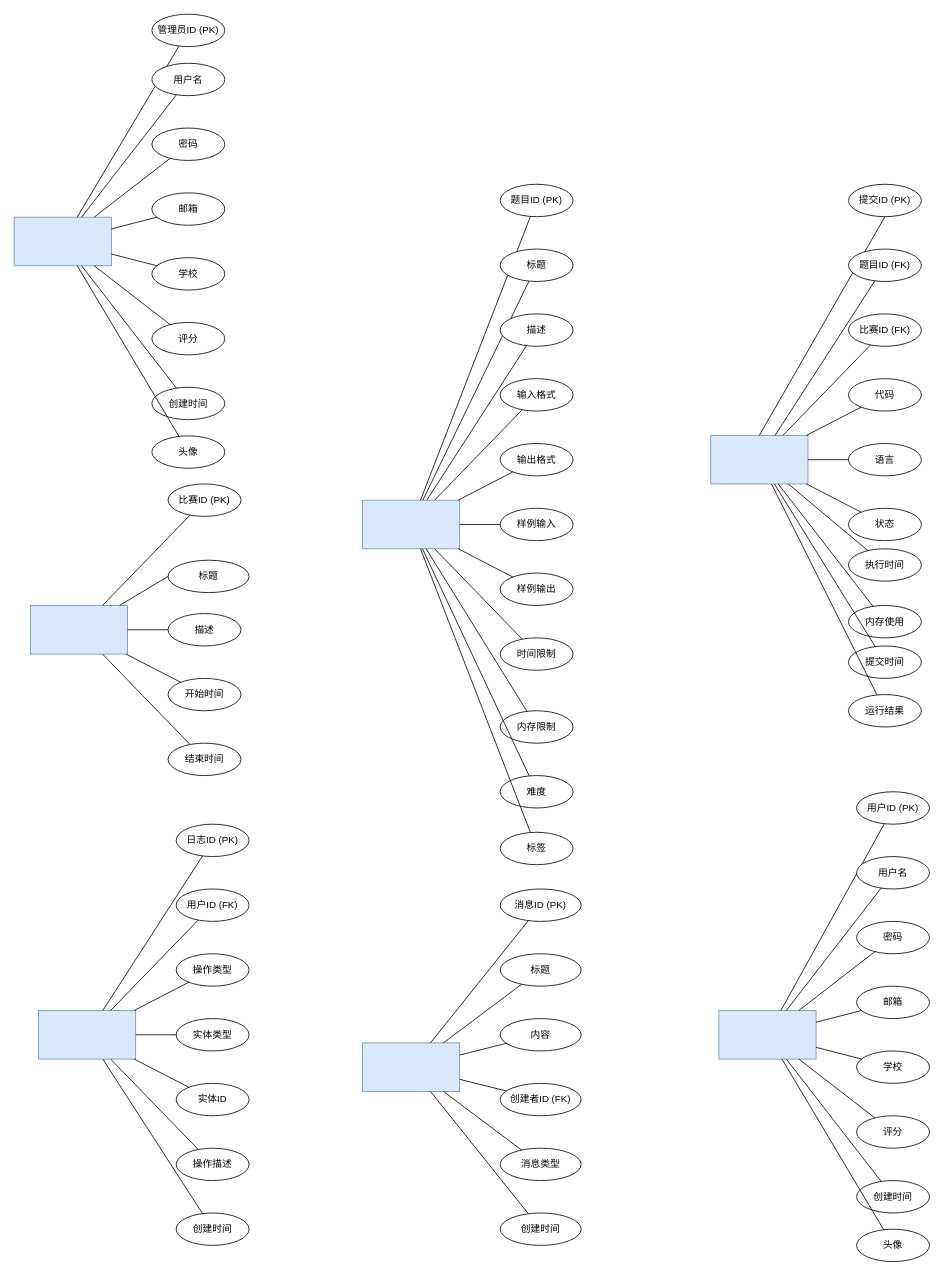
Some shapes in this 944 by 1276 pixel diagram are drawn without their labels. The shapes that lost their labels are listed below. From the top down, each one's box as (x1, y1, x2, y2) in pixels, then its label:
(13, 216, 111, 266): 管理员 (admin)
(710, 435, 808, 484): 提交记录 (submission)
(362, 499, 460, 549): 题目 (problem)
(30, 605, 128, 654): 比赛 (contest)
(38, 1010, 136, 1059): 活动日志 (activity_log)
(718, 1010, 816, 1059): 用户 (user)
(362, 1042, 460, 1091): 消息 (message)
